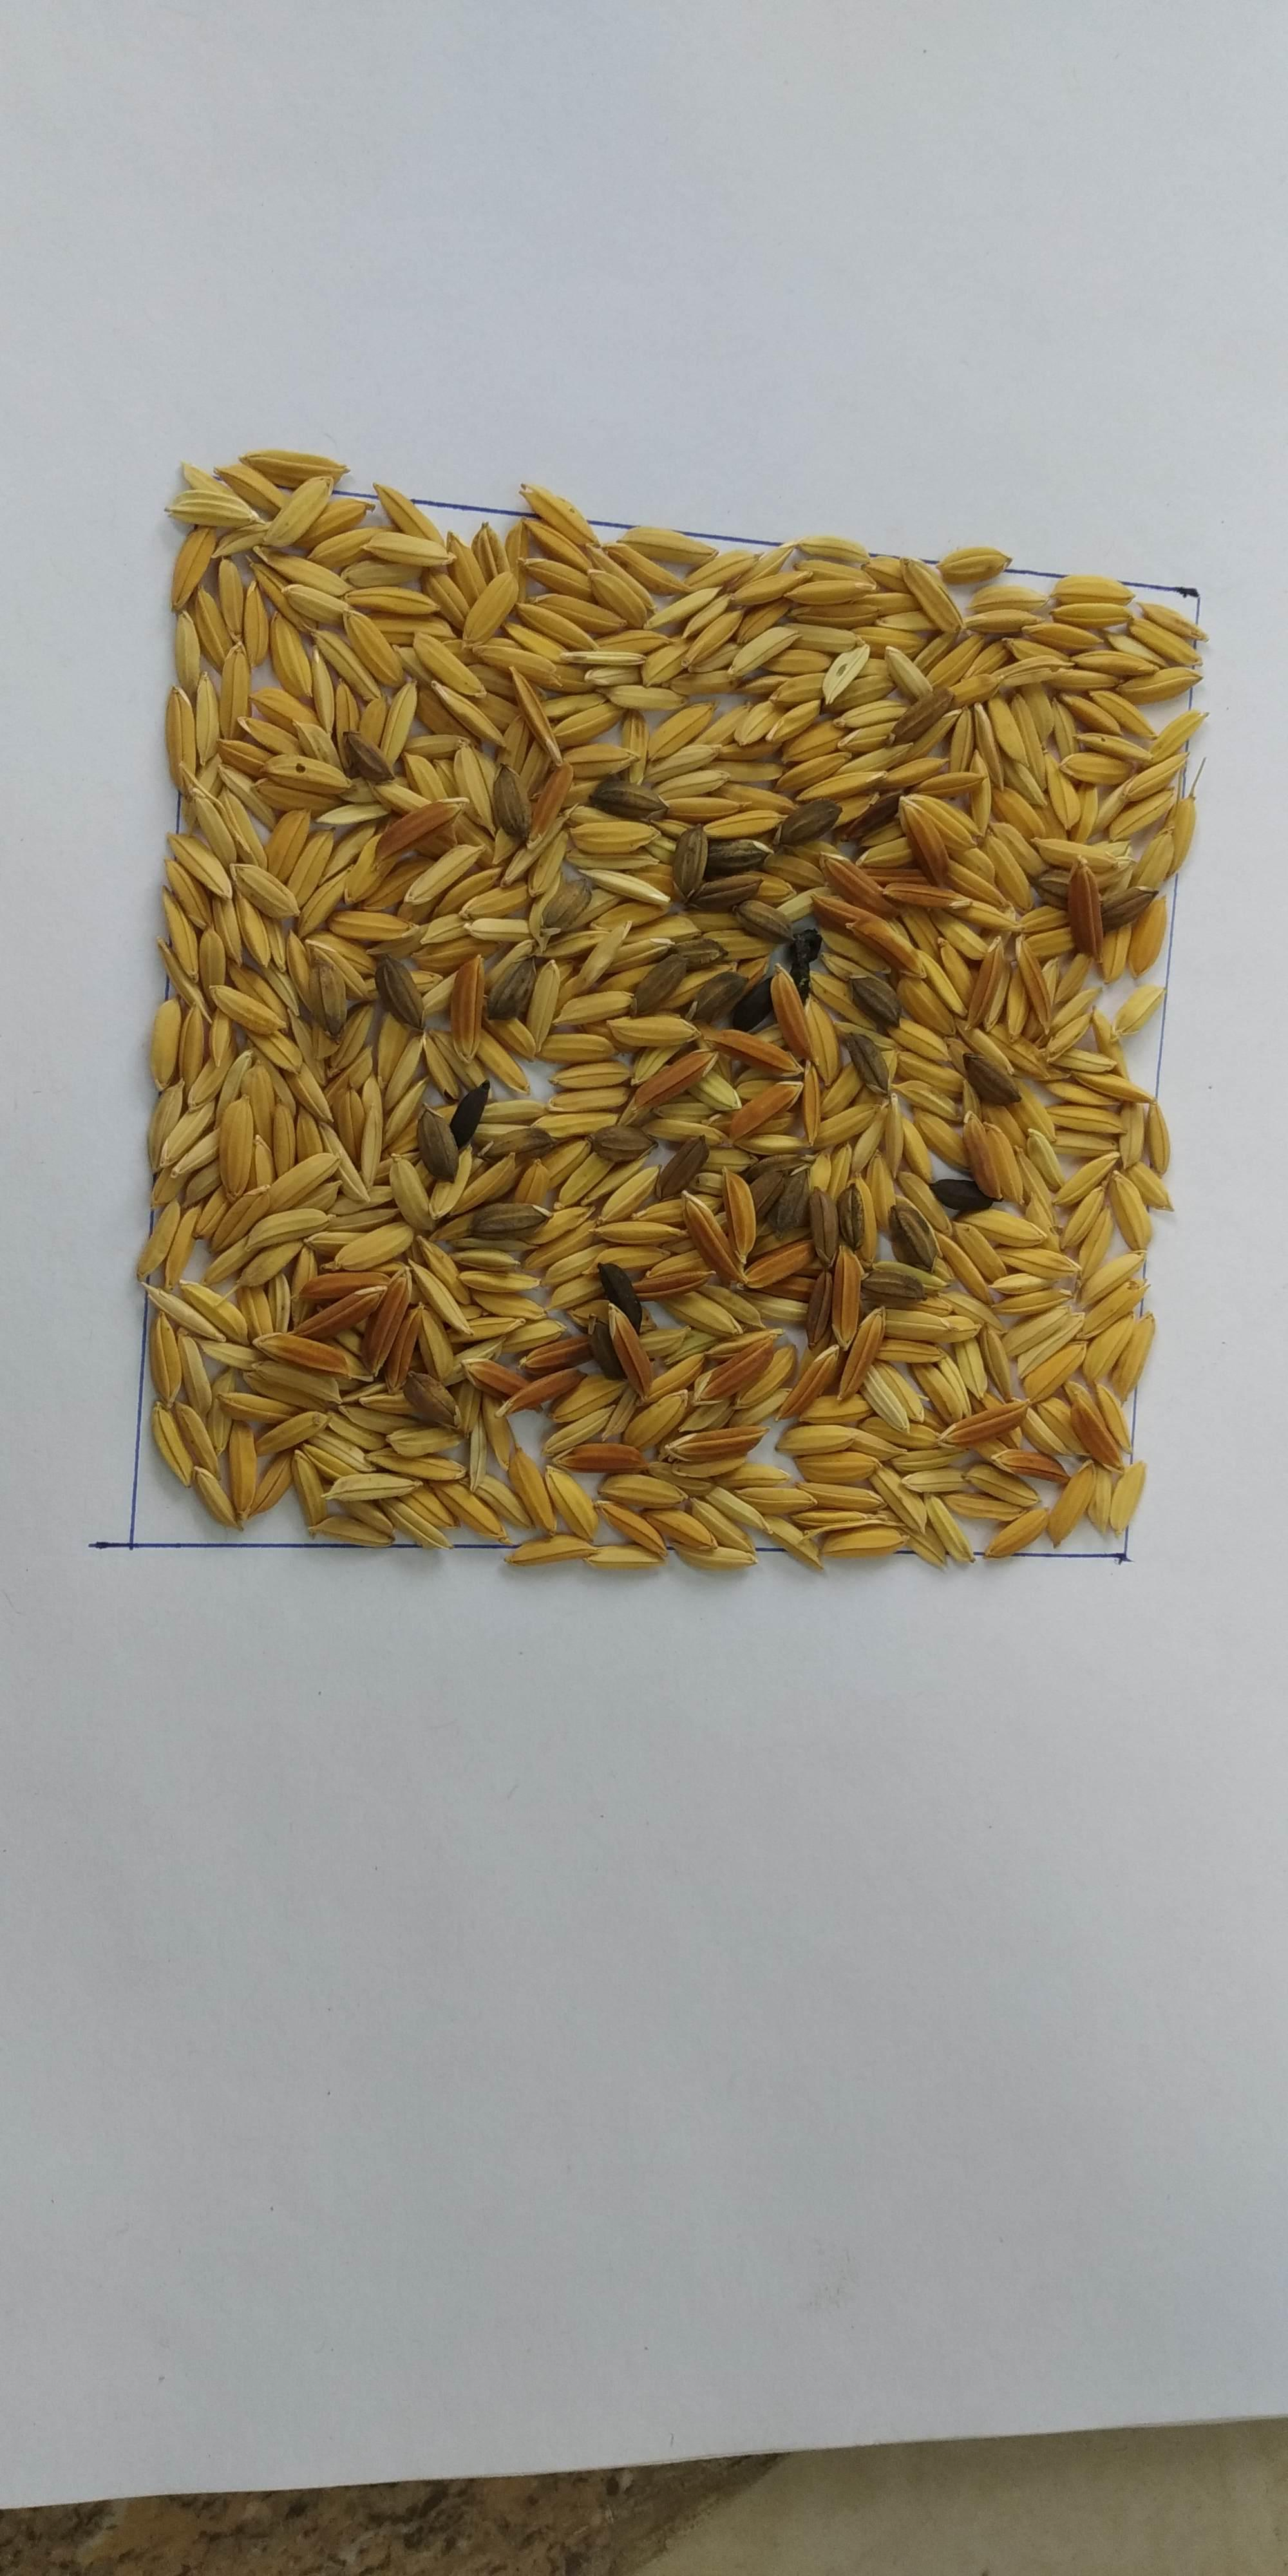impure: (199, 606, 1124, 1525)
